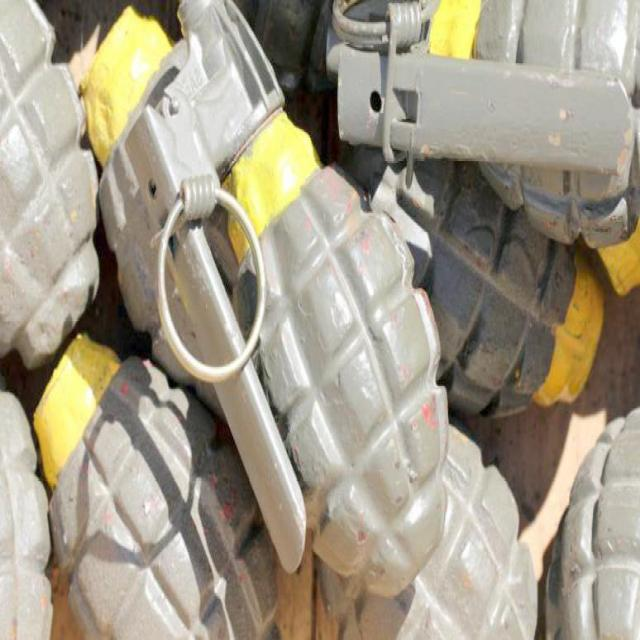grenade: (150, 3, 447, 605), (326, 1, 640, 255), (39, 333, 270, 640), (85, 9, 241, 420), (373, 162, 606, 415), (316, 421, 537, 639), (1, 1, 100, 372), (535, 403, 640, 640), (2, 395, 53, 640)
